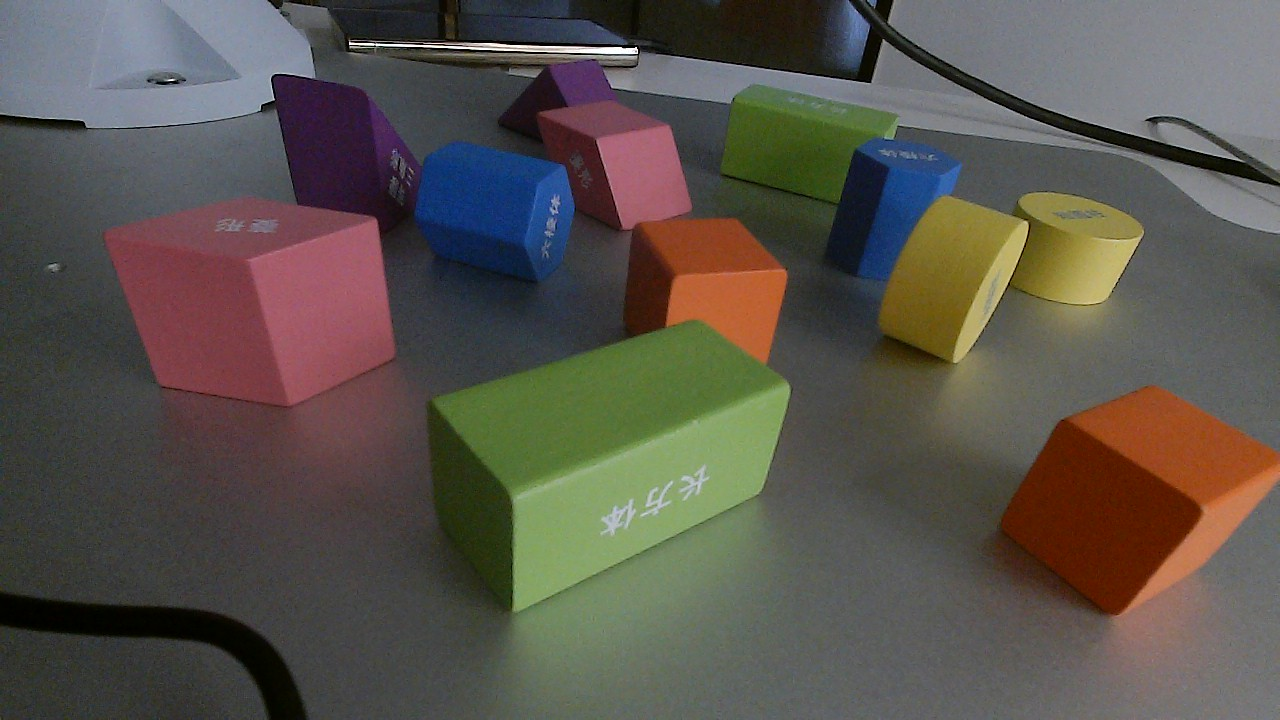circle: (876, 193, 1029, 368), (1007, 192, 1145, 306)
diamond: (98, 192, 398, 413), (532, 99, 703, 233)
hexagon: (416, 139, 577, 282), (821, 137, 965, 288)
rectangle: (424, 318, 796, 616), (714, 83, 902, 204)
square: (992, 377, 1280, 618), (620, 218, 786, 384)
triangle: (269, 73, 421, 225), (498, 56, 618, 143)
